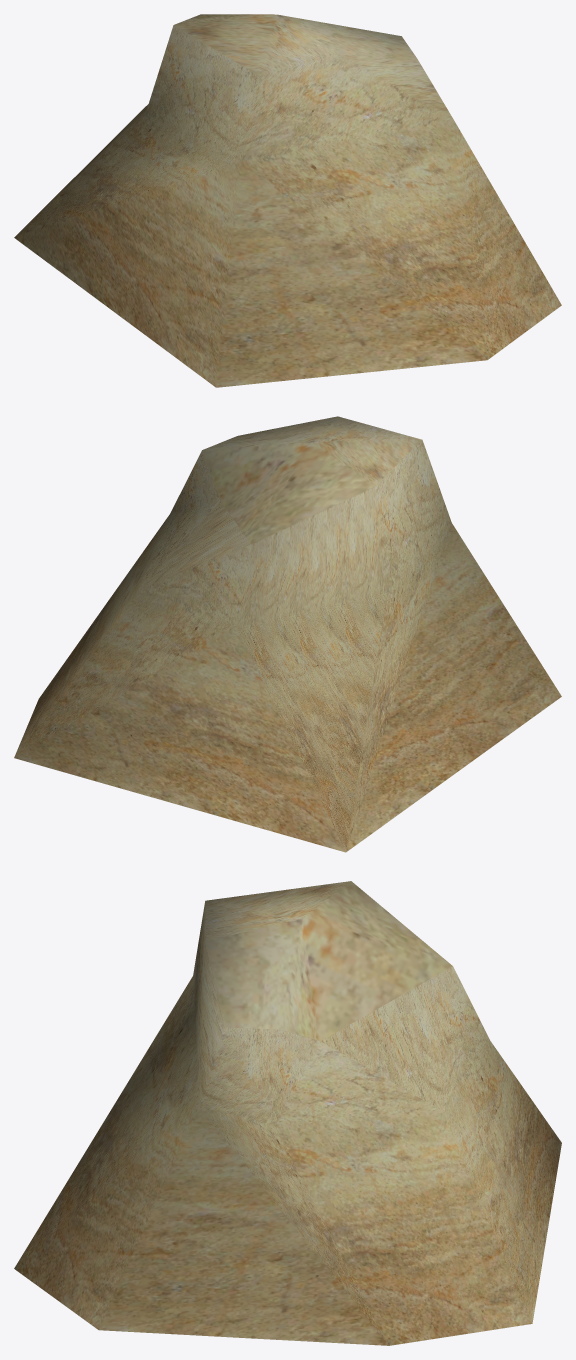
Rendered from rock_beach_spike_a3_l3.fbx.
3 views of the same model, one above another, from view 1: azimuth 30°, elevation 25°; view 2: azimuth 150°, elevation 25°; view 3: azimuth 270°, elevation 25° (orthographic). The views are drawn at different scales.
Parts seen in each view (by area): view 1: mesh_node; view 2: mesh_node; view 3: mesh_node.
Part boxes in pixels (box(x1,y1,x2,y2)): mesh_node: box(14, 14, 561, 387); mesh_node: box(14, 416, 561, 852); mesh_node: box(14, 881, 561, 1345).
Bounding box in the file's own units: 5.44 × 3.79 × 6.17.
Materials: 1 (1 with a texture image).
